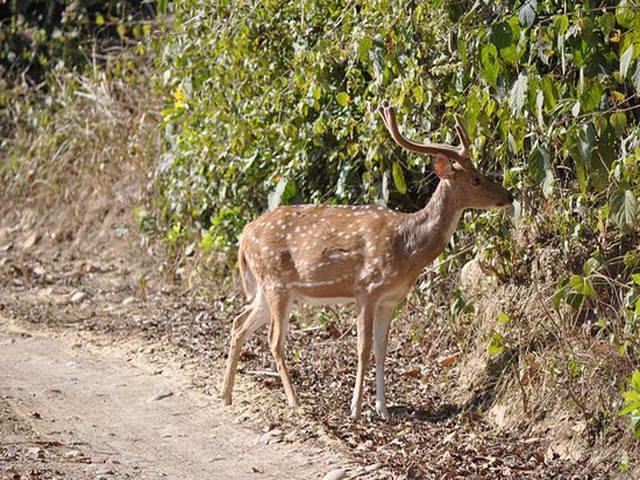deer: (224, 98, 513, 425)
